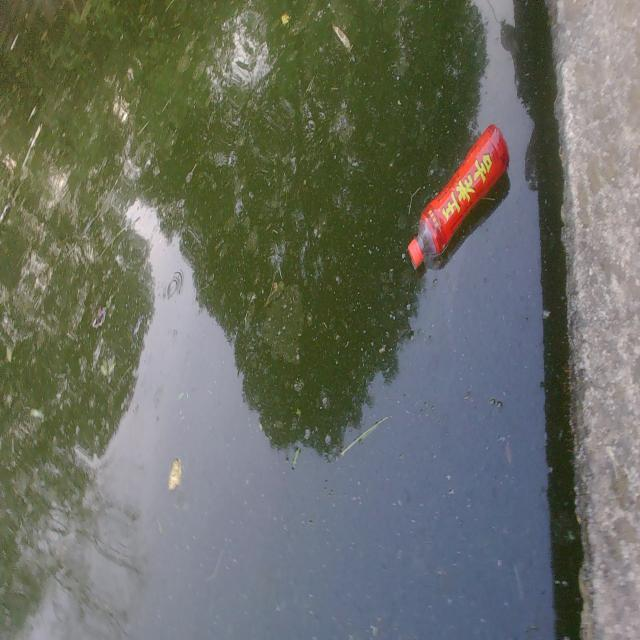bottle: (390, 111, 531, 278)
